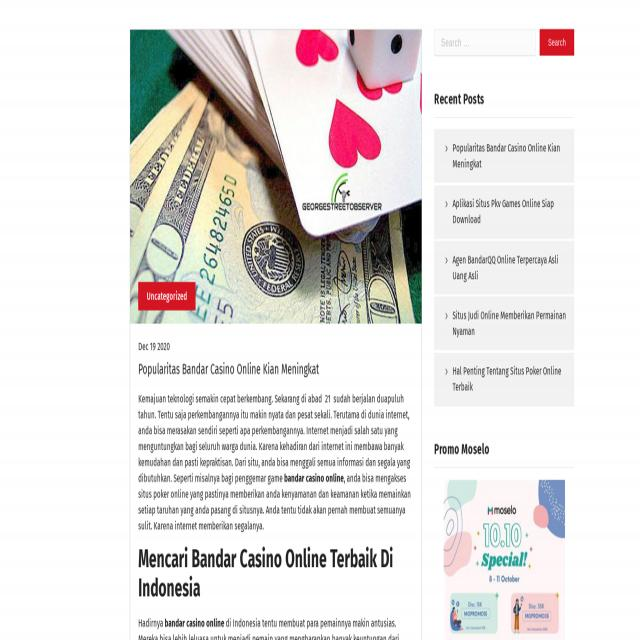button: (130, 30, 422, 324), (540, 30, 574, 56)
field: (434, 30, 536, 56)
